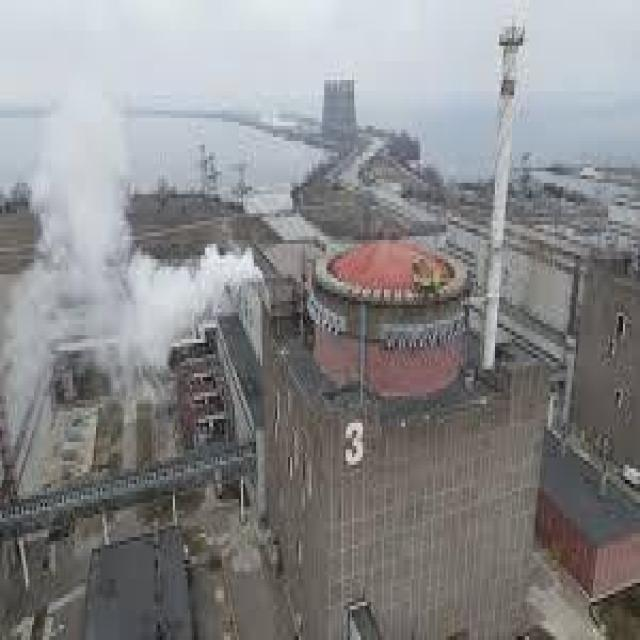Smoke: (3, 110, 270, 365)
